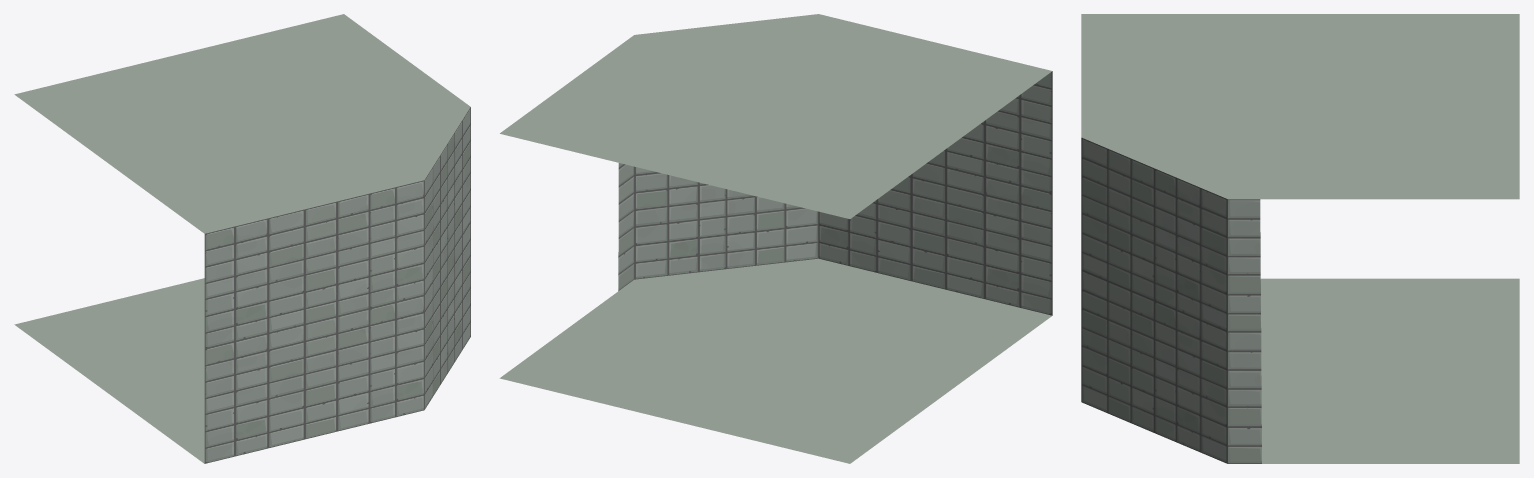
The model's file is Bock_A2(1).fbx.
The picture shows the model from 3 angles, left to right: view 1: azimuth 30°, elevation 25°; view 2: azimuth 150°, elevation 25°; view 3: azimuth 270°, elevation 25°; orthographic projection. The views are drawn at different scales.
Parts seen in each view (by area): view 1: Bock_A2; view 2: Bock_A2; view 3: Bock_A2.
Part boxes in pixels (box(x1,y1,x2,y2)): Bock_A2: box(14, 14, 470, 463); Bock_A2: box(499, 14, 1052, 463); Bock_A2: box(1081, 14, 1519, 463).
Size of the model in its own units: 600 by 400 by 600.
